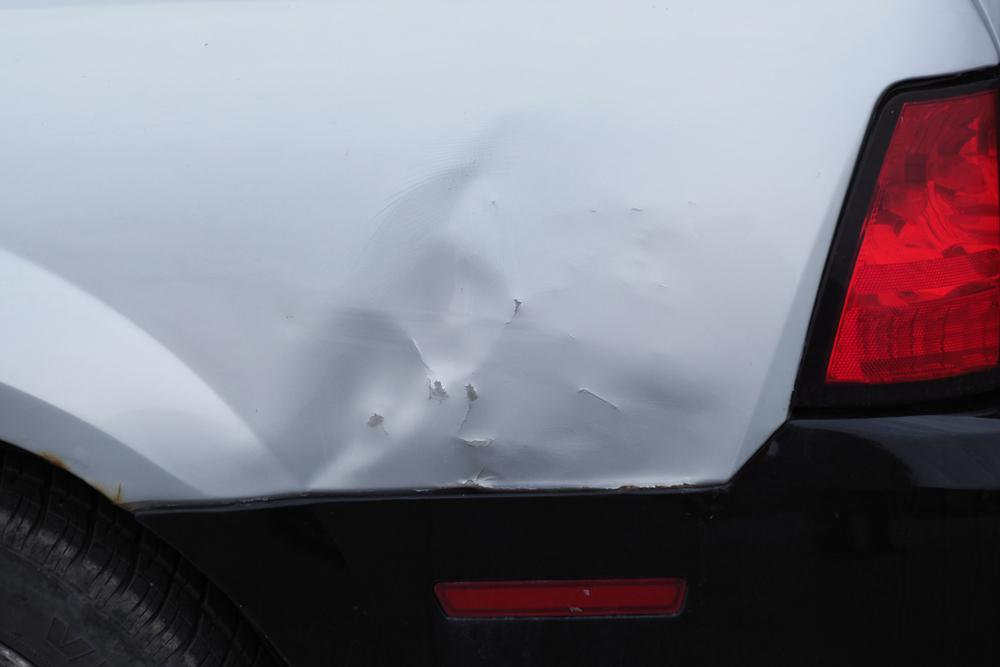dent: (210, 105, 721, 497)
